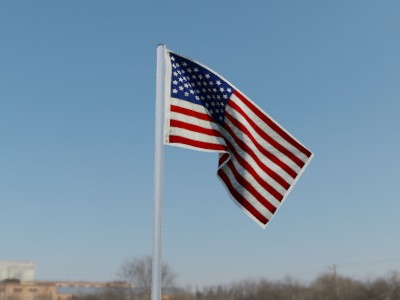America flag: (163, 47, 316, 231)
